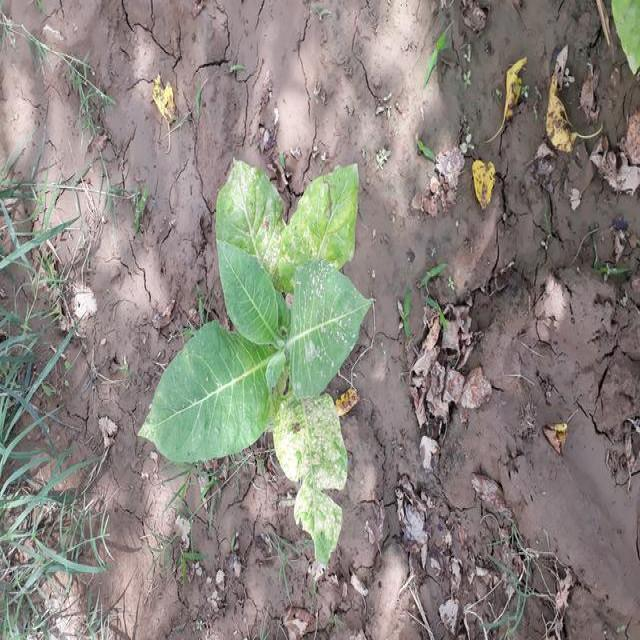crop: (141, 167, 360, 571)
